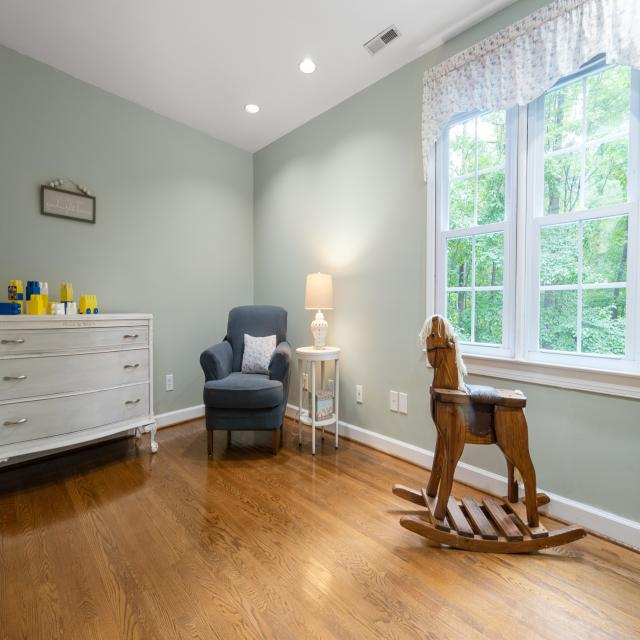floor: (0, 414, 640, 640), (450, 477, 503, 502), (538, 509, 578, 532)
wall: (253, 0, 557, 453), (0, 44, 254, 416), (463, 372, 640, 526), (53, 180, 87, 195)
